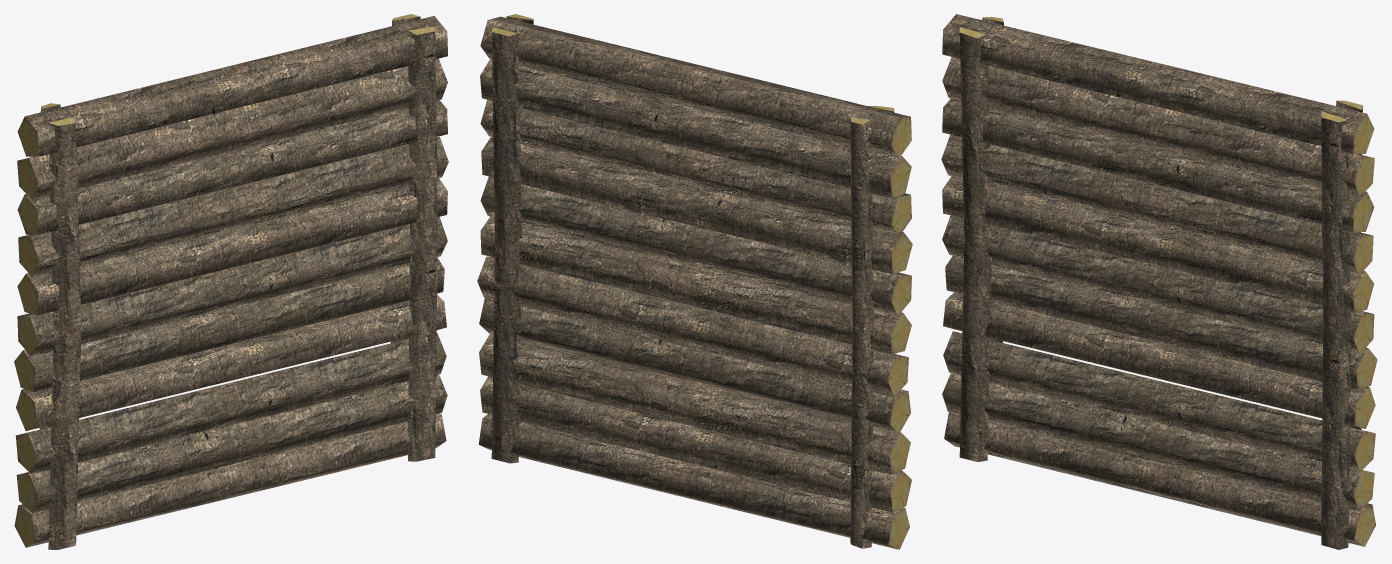
File: construction_wood_wall_solid_mesh.fbx
3 views of the same model, side by side, from view 1: azimuth 30°, elevation 25°; view 2: azimuth 150°, elevation 25°; view 3: azimuth 330°, elevation 25° (orthographic).
Parts seen in each view (by area): view 1: construction_wood_wall_solid_mesh; view 2: construction_wood_wall_solid_mesh; view 3: construction_wood_wall_solid_mesh.
Part boxes in pixels (x1=…): construction_wood_wall_solid_mesh: x1=14, y1=14, x2=448, y2=549; construction_wood_wall_solid_mesh: x1=477, y1=14, x2=912, y2=549; construction_wood_wall_solid_mesh: x1=941, y1=14, x2=1377, y2=549.
Size of the model in its own units: 300 by 302 by 33.08.
